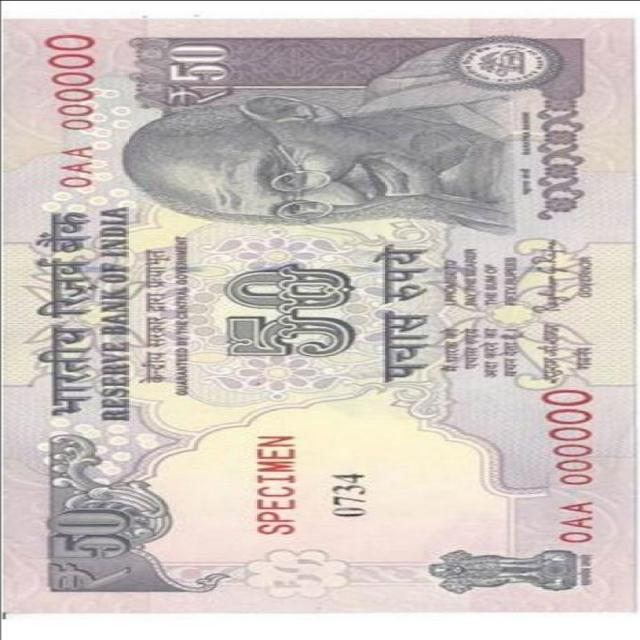50IndianRupees: (0, 18, 640, 614)
